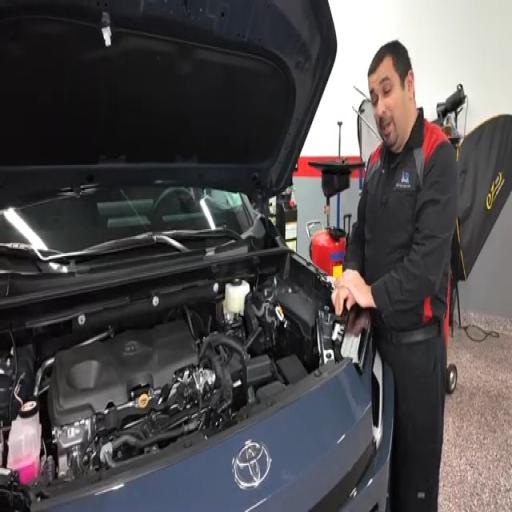bumper: (339, 366, 394, 511)
emblem: (233, 441, 271, 489)
hood: (0, 0, 336, 207)
trunk: (35, 362, 374, 511)
windshield: (0, 185, 253, 253)
